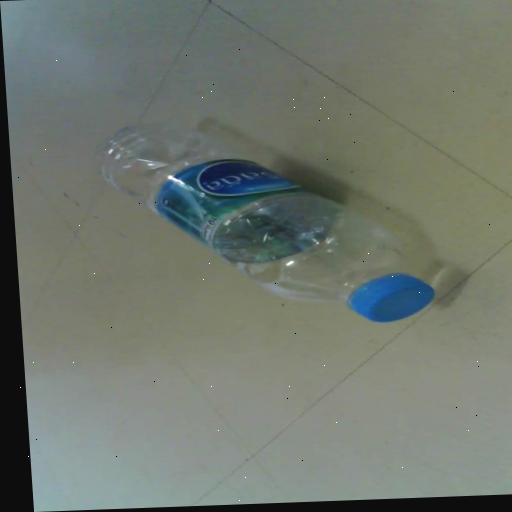bottle: (77, 90, 455, 355)
